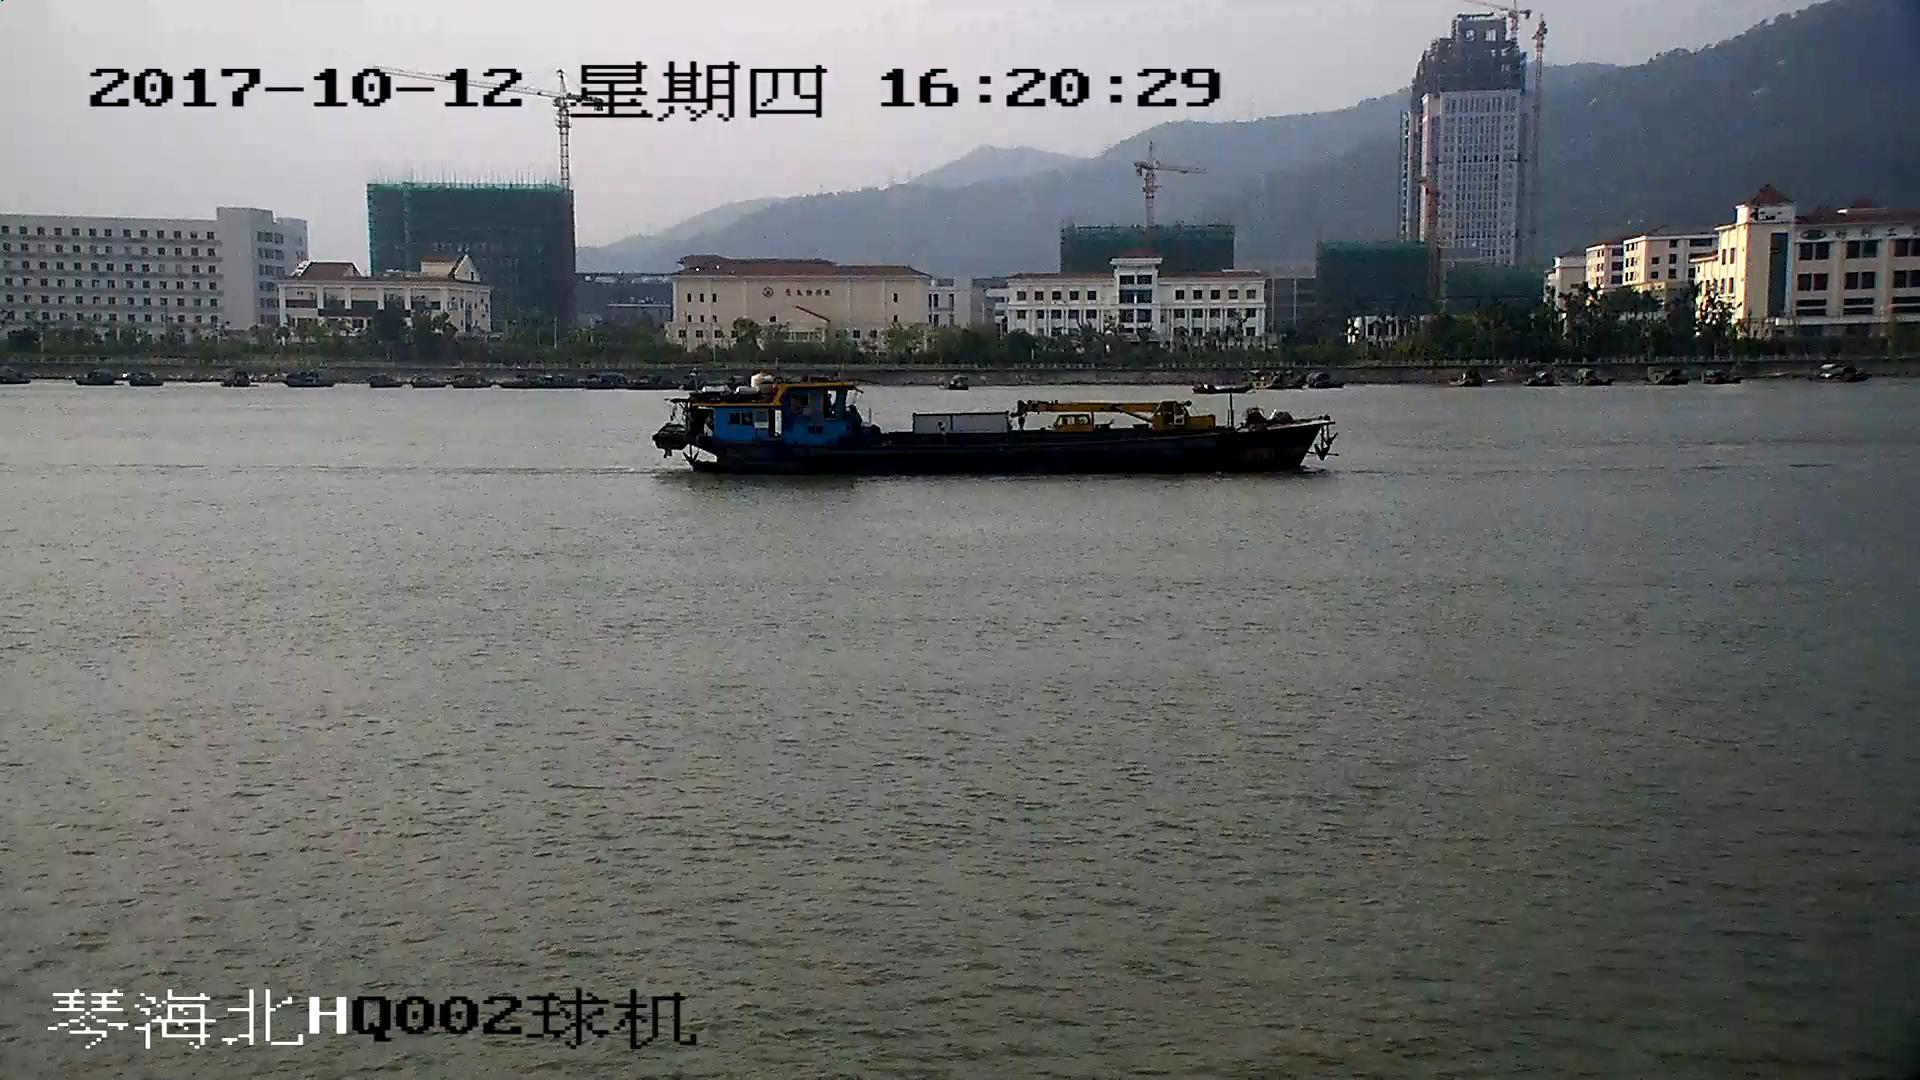fishing boat: (653, 375, 1337, 477)
